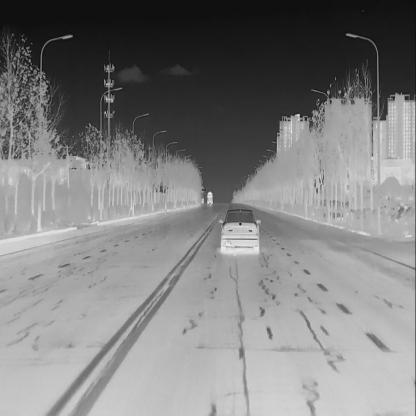car: (219, 207, 261, 254)
truck: (207, 190, 213, 206)
